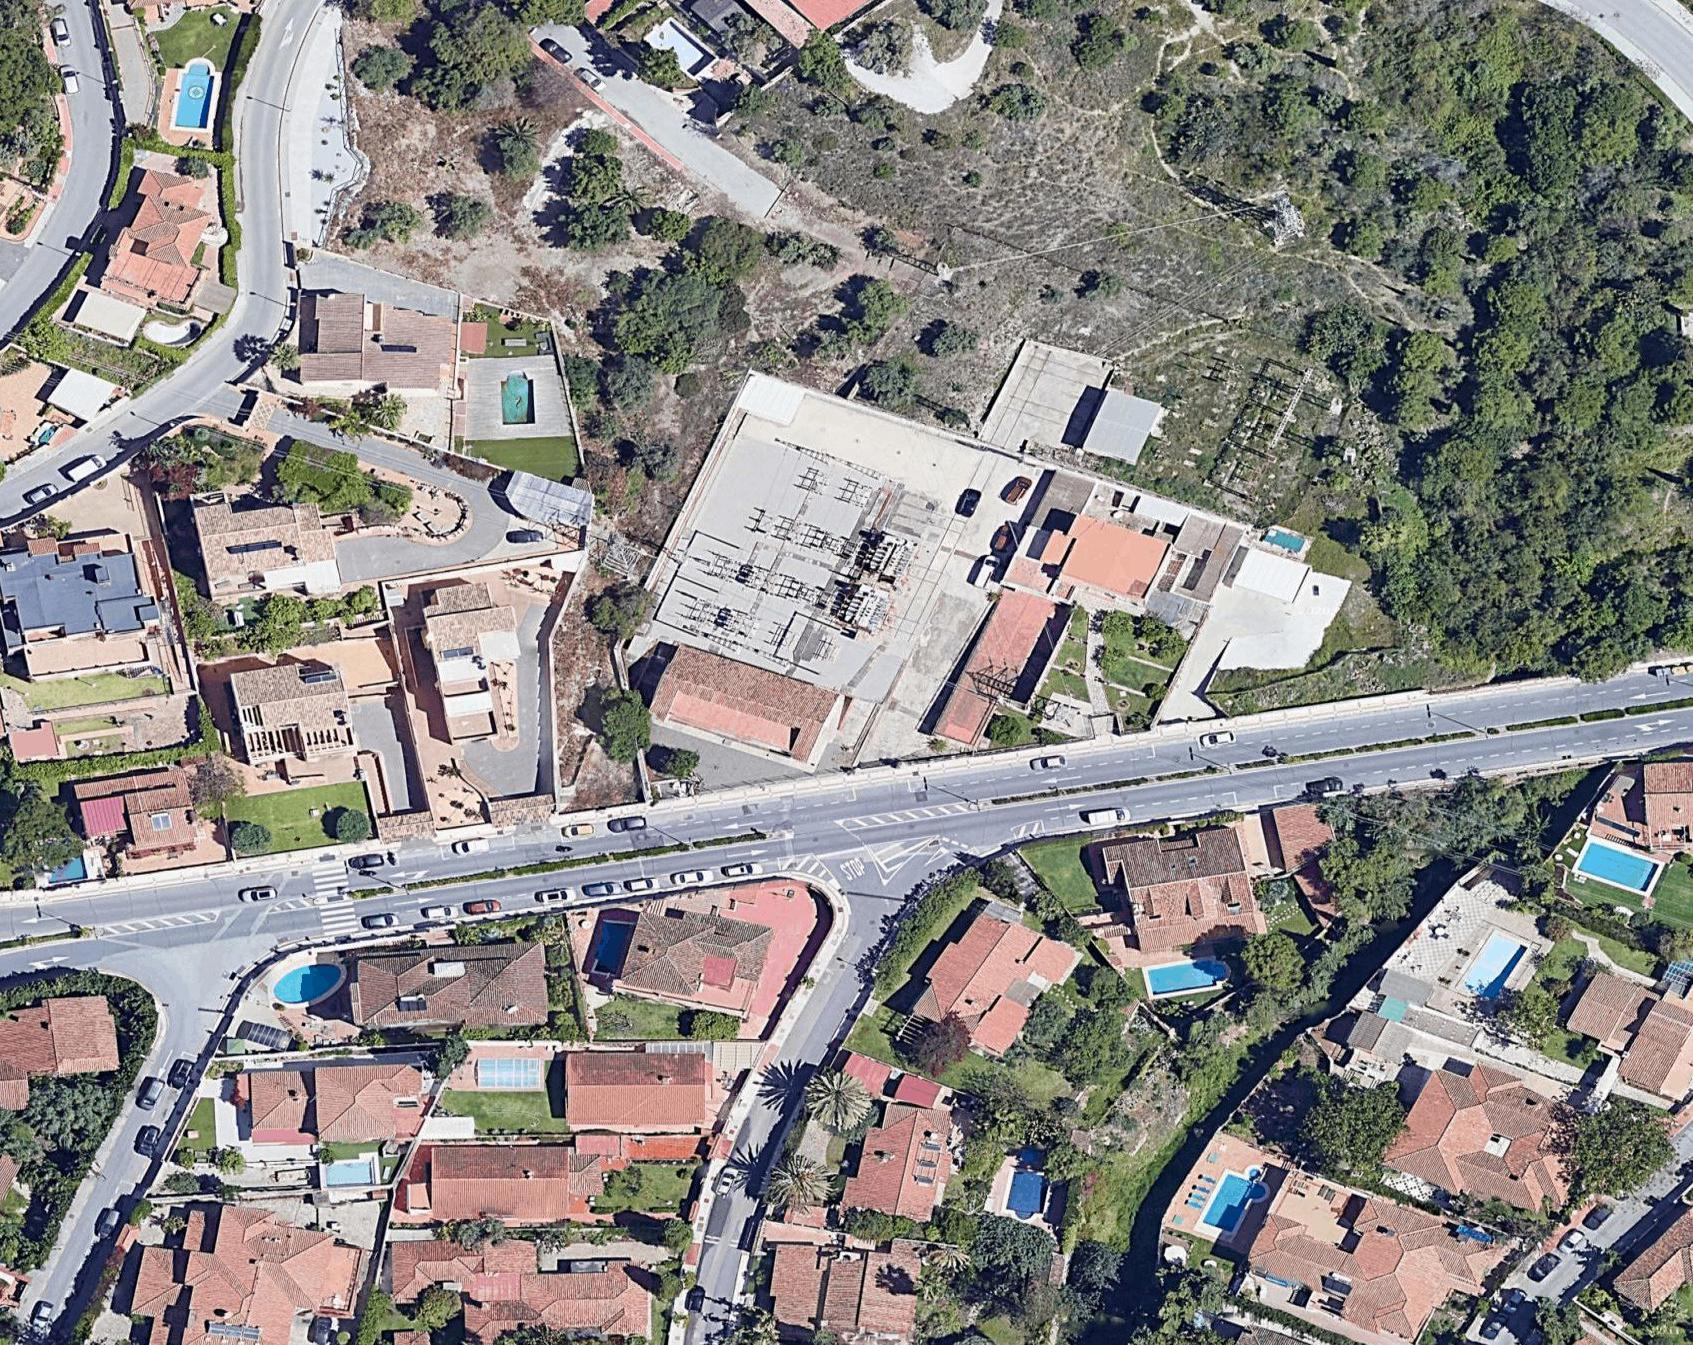substation: (666, 431, 939, 677)
